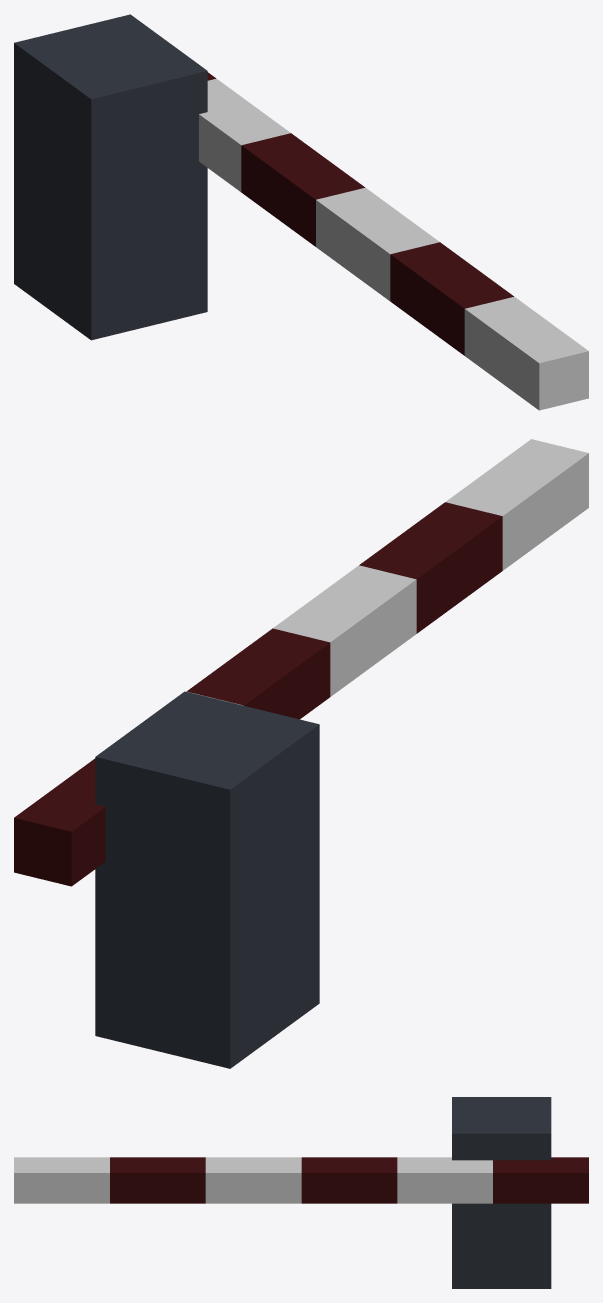
The model's file is Barrier.FBX.
3 renders of one model, top to bottom at view 1: azimuth 30°, elevation 25°; view 2: azimuth 150°, elevation 25°; view 3: azimuth 270°, elevation 25°, orthographic. The views are drawn at different scales.
Visible parts, largest first — view 1: Barrier; view 2: Barrier; view 3: Barrier.
Part boxes in pixels (x1,y1,x2,y2): Barrier: (14,14,588,410); Barrier: (14,439,588,1068); Barrier: (14,1097,588,1288).
Bounding box in the file's own units: 1.45 × 2.13 × 7.14.
